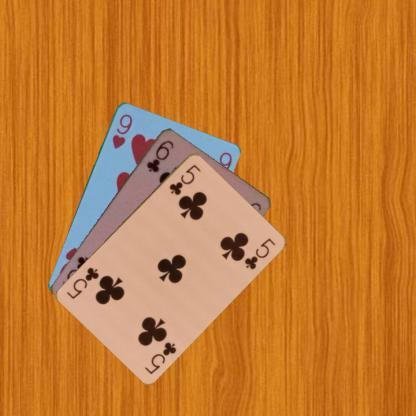5c: (142, 339, 178, 375), (166, 161, 202, 196)
6c: (143, 137, 175, 173)
9h: (109, 111, 134, 150)
